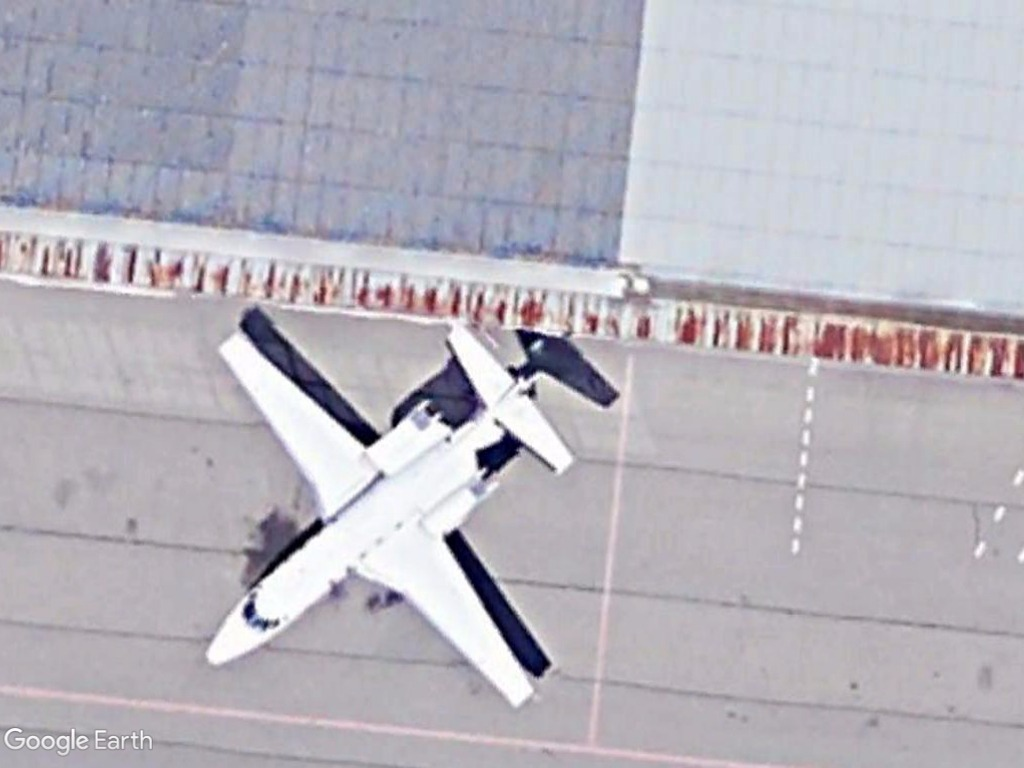chartered: (186, 312, 579, 716)
